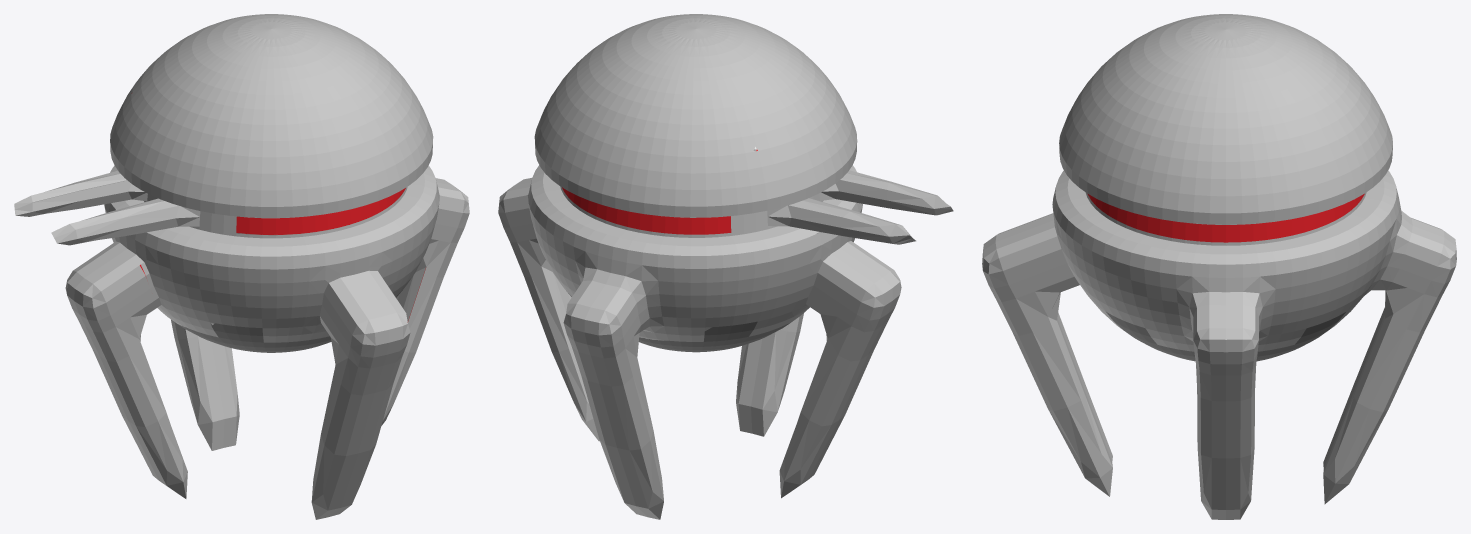
File: drone.obj
The picture shows the model from 3 angles, left to right: view 1: azimuth 30°, elevation 25°; view 2: azimuth 150°, elevation 25°; view 3: azimuth 270°, elevation 25°; orthographic projection. The views are drawn at different scales.
Parts seen in each view (by area): view 1: Sphere; view 2: Sphere; view 3: Sphere.
Part boxes in pixels (<box>): Sphere: <box>14,14,469,519</box>; Sphere: <box>498,14,953,519</box>; Sphere: <box>982,14,1456,519</box>.
Size of the model in its own units: 2.9 by 2.94 by 2.69.
Materials: 1 (1 with a texture image).
